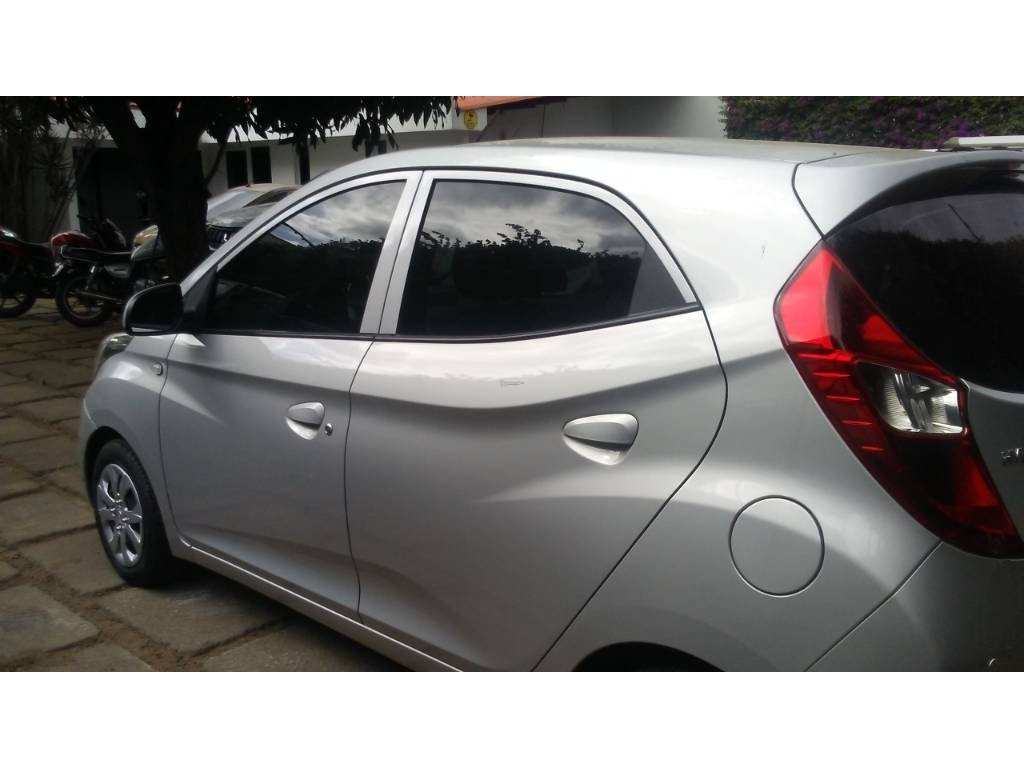eon: (74, 121, 1022, 674)
